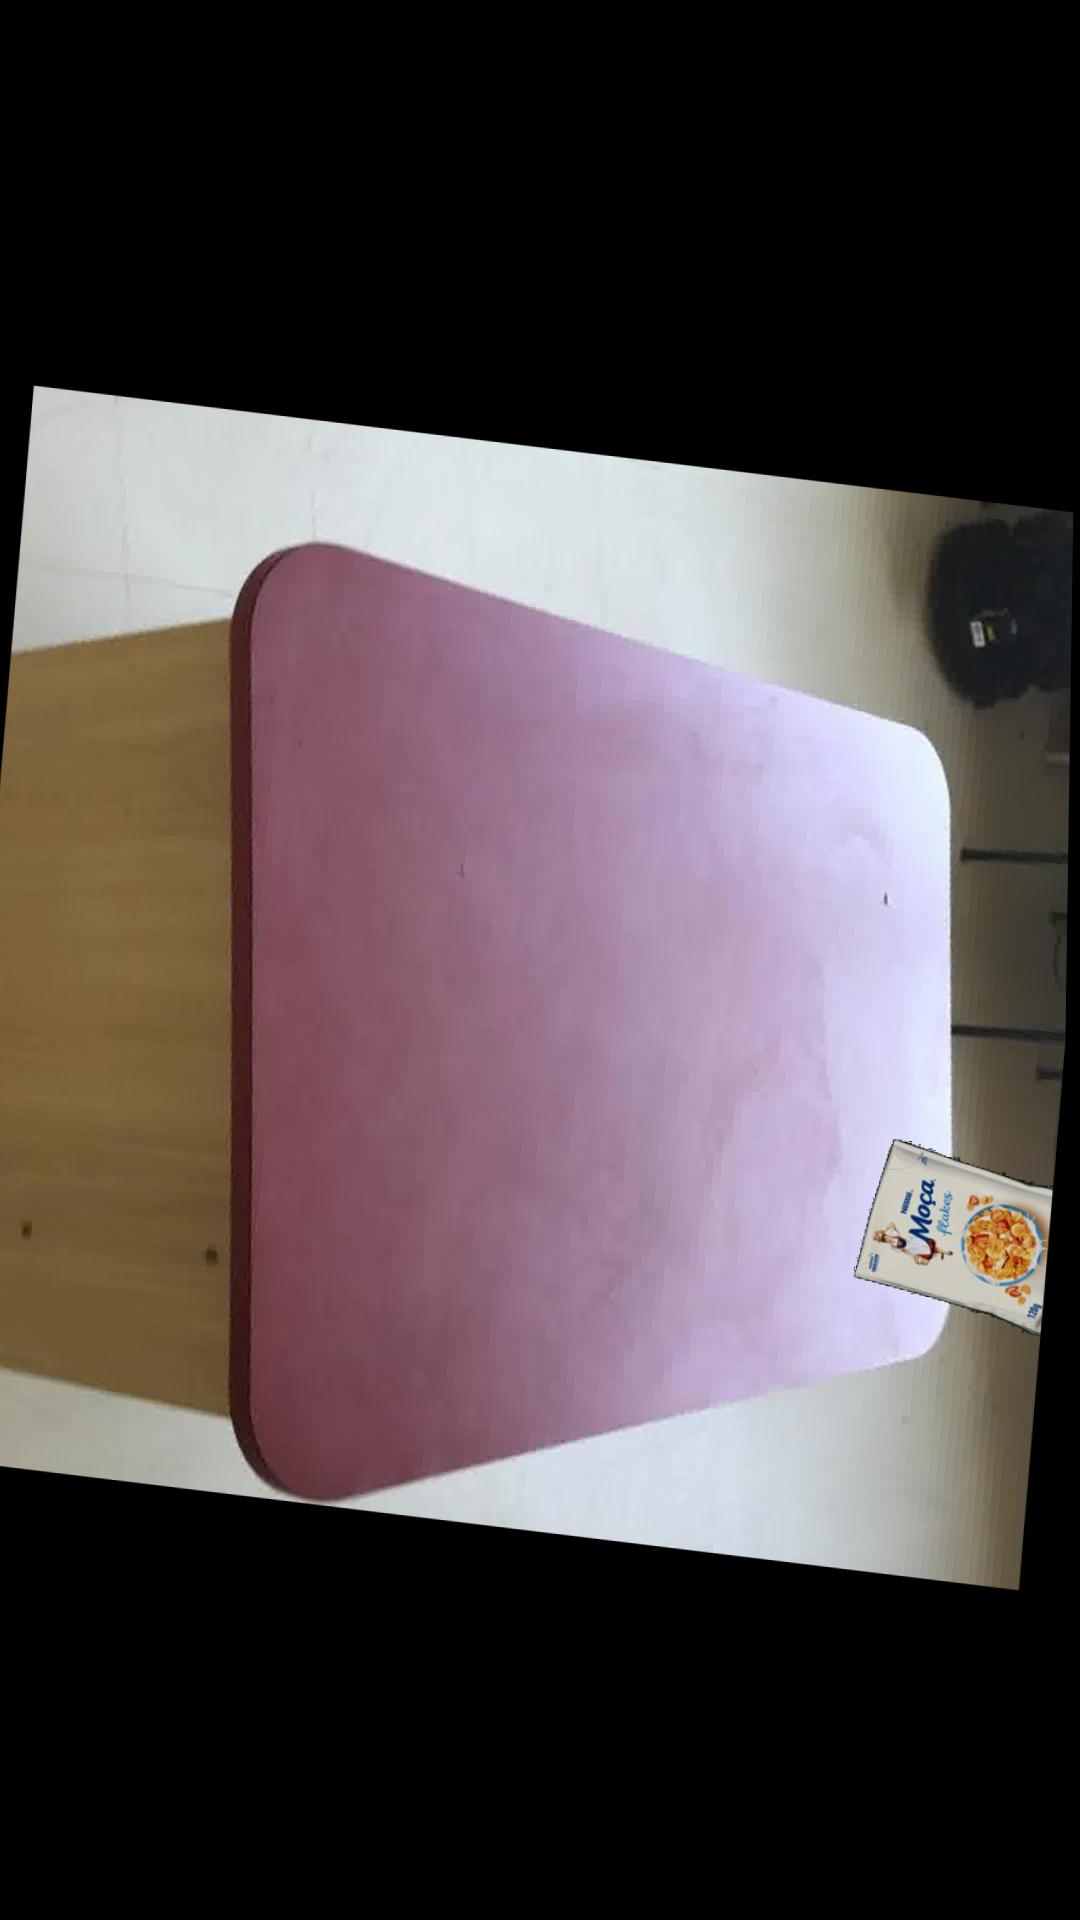corn flakes: (858, 1131, 1056, 1325)
